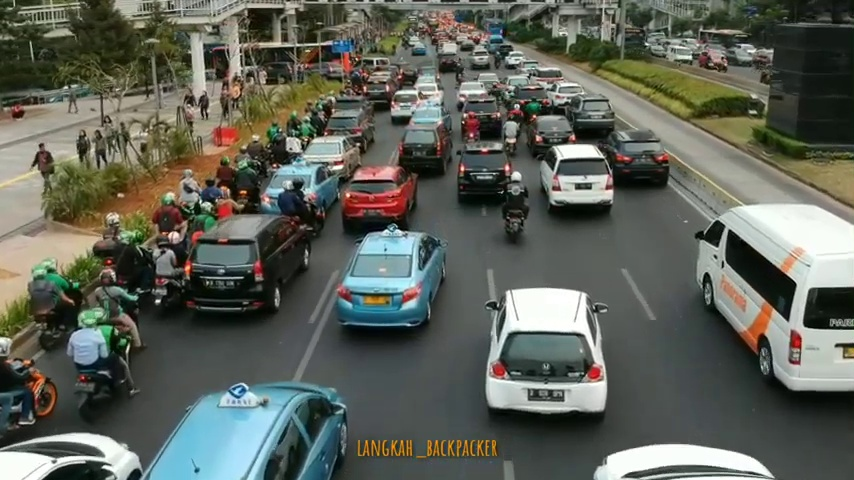car: (694, 199, 854, 399), (144, 380, 349, 480), (484, 286, 609, 423), (187, 214, 314, 319), (340, 229, 444, 338), (592, 440, 775, 480), (1, 431, 142, 480), (538, 142, 614, 222), (343, 165, 416, 229), (263, 162, 336, 222), (599, 130, 672, 189), (458, 142, 513, 203), (398, 124, 452, 177), (303, 134, 359, 179), (527, 114, 576, 159), (325, 111, 375, 153), (566, 94, 614, 137), (461, 95, 500, 138), (547, 81, 585, 115), (512, 85, 548, 119), (391, 90, 426, 124), (412, 103, 450, 132), (667, 44, 690, 69), (440, 54, 461, 76), (472, 49, 490, 73), (505, 51, 525, 71)
motorbike: (1, 337, 63, 434), (71, 312, 131, 412), (30, 260, 89, 350), (92, 268, 142, 351), (154, 232, 190, 314), (118, 231, 157, 306), (278, 180, 325, 237), (503, 169, 529, 242), (99, 215, 126, 279), (156, 193, 184, 252), (235, 158, 260, 216), (217, 155, 236, 201), (248, 132, 265, 174), (464, 112, 478, 146), (505, 118, 516, 159)
